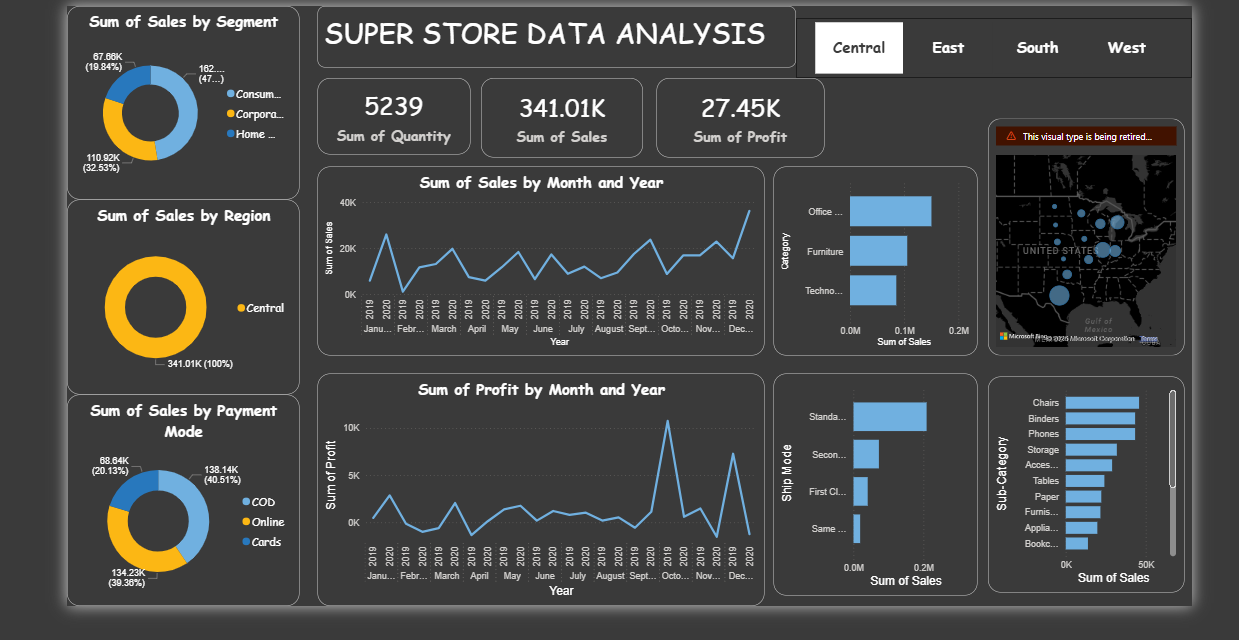

This screenshot's page, from the dashboard's own definition file:
{"tool":"powerbi","page":{"name":"Page 3","canvas":[1500,800],"ordinal":0},"visuals":[{"type":"donutChart","fields":{"Category":["SuperStore_Sales_Dataset.Region"],"Y":["Sum(SuperStore_Sales_Dataset.Sales)"]},"box":[0,258,310,260],"z":0},{"type":"donutChart","fields":{"Y":["Sum(SuperStore_Sales_Dataset.Sales)"],"Category":["SuperStore_Sales_Dataset.Payment Mode"]},"box":[0,518,310,282],"z":1000},{"type":"donutChart","fields":{"Y":["Sum(SuperStore_Sales_Dataset.Sales)"],"Category":["SuperStore_Sales_Dataset.Segment"]},"box":[0,0,310,258],"z":2000},{"type":"textbox","box":[334,0,638,82],"z":3000},{"type":"card","fields":{"Values":["Sum(SuperStore_Sales_Dataset.Sales)"]},"box":[552,96,216,106],"z":5000},{"type":"card","fields":{"Values":["Sum(SuperStore_Sales_Dataset.Quantity)"]},"box":[334,96,204,102],"z":6000},{"type":"card","fields":{"Values":["Sum(SuperStore_Sales_Dataset.Profit)"]},"box":[786,96,224,106],"z":7000},{"type":"lineChart","fields":{"Category":["SuperStore_Sales_Dataset.Order Date.Variation.Date Hierarchy.Month","SuperStore_Sales_Dataset.Order Date.Variation.Date Hierarchy.Year"],"Y":["Sum(SuperStore_Sales_Dataset.Sales)"]},"box":[334,214,596,252],"z":9000},{"type":"lineChart","fields":{"Category":["SuperStore_Sales_Dataset.Order Date.Variation.Date Hierarchy.Month","SuperStore_Sales_Dataset.Order Date.Variation.Date Hierarchy.Year"],"Y":["Sum(SuperStore_Sales_Dataset.Profit)"]},"box":[334,490,596,310],"z":10000},{"type":"barChart","fields":{"Category":["SuperStore_Sales_Dataset.Ship Mode"],"Y":["Sum(SuperStore_Sales_Dataset.Sales)"]},"box":[942,490,272,296],"z":11000},{"type":"barChart","fields":{"Category":["SuperStore_Sales_Dataset.Category"],"Y":["Sum(SuperStore_Sales_Dataset.Sales)"]},"box":[942,214,272,252],"z":12000},{"type":"map","fields":{"Category":["SuperStore_Sales_Dataset.State"],"Size":["Sum(SuperStore_Sales_Dataset.Sales)"]},"box":[1228,150,262,316],"z":13000},{"type":"advancedSlicerVisual","fields":{"Values":["SuperStore_Sales_Dataset.Region"]},"box":[972,16,528,80],"z":13001},{"type":"barChart","fields":{"Category":["SuperStore_Sales_Dataset.Sub-Category"],"Y":["Sum(SuperStore_Sales_Dataset.Sales)"]},"box":[1228,494,262,288],"z":13002}]}

Visuals, with their boxes on the page's 1500x800 design canvas (x1, y1, x2, y2). These are canvas units, not pixel positions in the 1239x640 screenshot, which may show the page scaled, cropped or inside an application window:
donutChart - SuperStore_Sales_Dataset.Region x Sum(SuperStore_Sales_Dataset.Sales): {"left": 0, "top": 258, "right": 310, "bottom": 518}
donutChart - Sum(SuperStore_Sales_Dataset.Sales) x SuperStore_Sales_Dataset.Payment Mode: {"left": 0, "top": 518, "right": 310, "bottom": 800}
donutChart - Sum(SuperStore_Sales_Dataset.Sales) x SuperStore_Sales_Dataset.Segment: {"left": 0, "top": 0, "right": 310, "bottom": 258}
textbox: {"left": 334, "top": 0, "right": 972, "bottom": 82}
card - Sum(SuperStore_Sales_Dataset.Sales): {"left": 552, "top": 96, "right": 768, "bottom": 202}
card - Sum(SuperStore_Sales_Dataset.Quantity): {"left": 334, "top": 96, "right": 538, "bottom": 198}
card - Sum(SuperStore_Sales_Dataset.Profit): {"left": 786, "top": 96, "right": 1010, "bottom": 202}
lineChart - SuperStore_Sales_Dataset.Order Date.Variation.Date Hierarchy.Month x SuperStore_Sales_Dataset.Order Date.Variation.Date Hierarchy.Year: {"left": 334, "top": 214, "right": 930, "bottom": 466}
lineChart - SuperStore_Sales_Dataset.Order Date.Variation.Date Hierarchy.Month x SuperStore_Sales_Dataset.Order Date.Variation.Date Hierarchy.Year: {"left": 334, "top": 490, "right": 930, "bottom": 800}
barChart - SuperStore_Sales_Dataset.Ship Mode x Sum(SuperStore_Sales_Dataset.Sales): {"left": 942, "top": 490, "right": 1214, "bottom": 786}
barChart - SuperStore_Sales_Dataset.Category x Sum(SuperStore_Sales_Dataset.Sales): {"left": 942, "top": 214, "right": 1214, "bottom": 466}
map - SuperStore_Sales_Dataset.State x Sum(SuperStore_Sales_Dataset.Sales): {"left": 1228, "top": 150, "right": 1490, "bottom": 466}
advancedSlicerVisual - SuperStore_Sales_Dataset.Region: {"left": 972, "top": 16, "right": 1500, "bottom": 96}
barChart - SuperStore_Sales_Dataset.Sub-Category x Sum(SuperStore_Sales_Dataset.Sales): {"left": 1228, "top": 494, "right": 1490, "bottom": 782}
